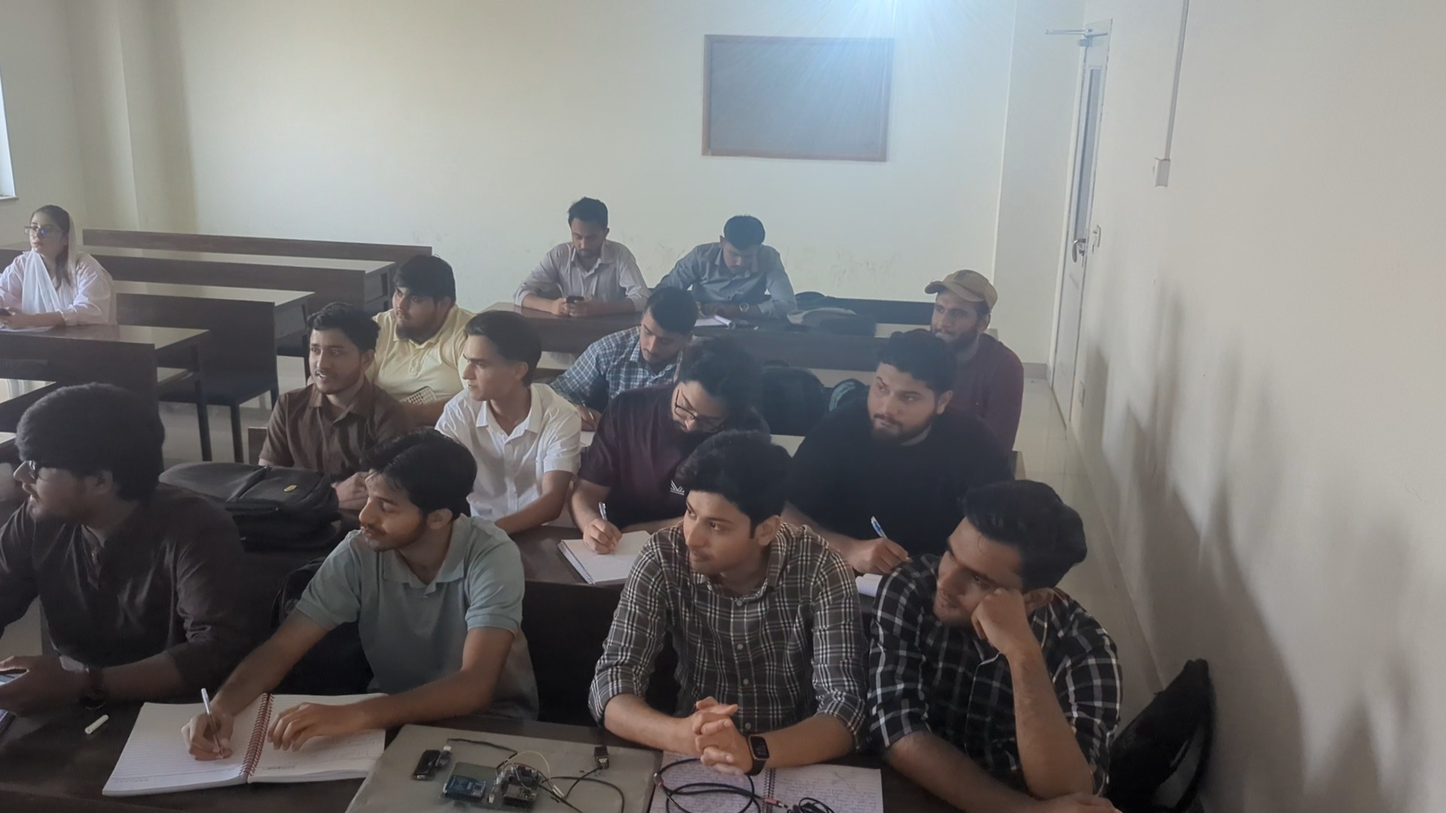look_forward: (599, 430, 862, 768), (862, 475, 1112, 807), (3, 381, 235, 708), (289, 425, 536, 711), (822, 328, 996, 522), (433, 313, 584, 498), (261, 300, 399, 467), (1, 203, 125, 332), (930, 266, 1018, 369), (375, 253, 460, 359)
using_device: (516, 188, 660, 317)
write: (570, 341, 735, 575), (548, 291, 723, 394), (651, 214, 802, 329)
